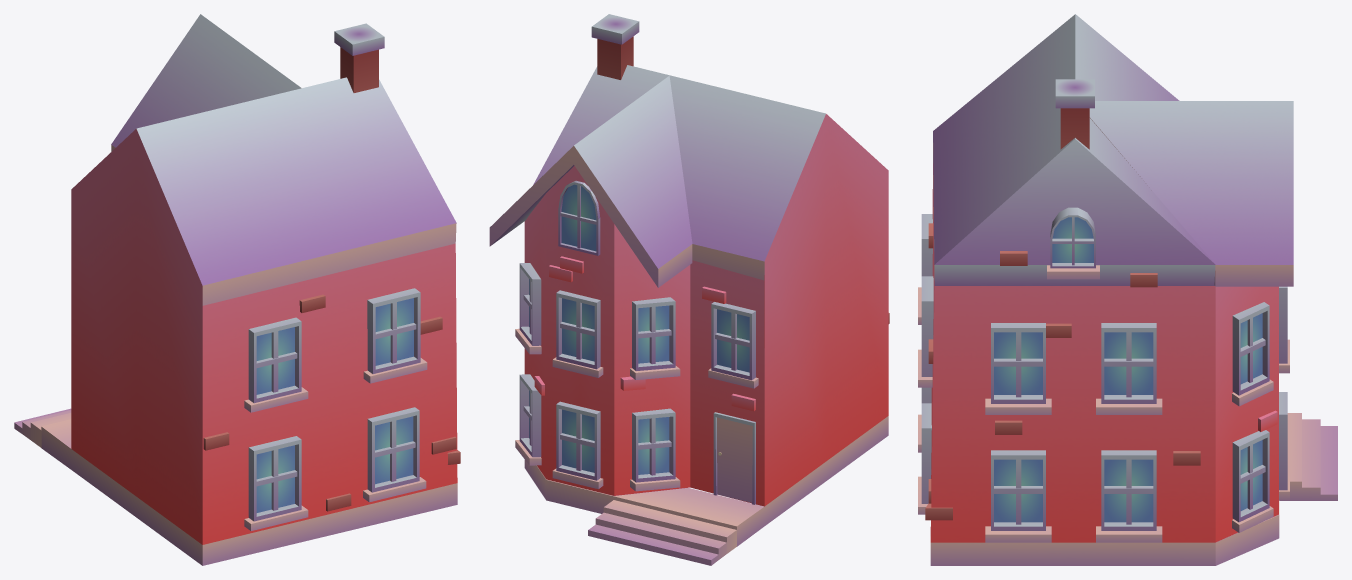
File: SM_House_L_Short_01.fbx
3 renders of one model, left to right at view 1: azimuth 30°, elevation 25°; view 2: azimuth 150°, elevation 25°; view 3: azimuth 270°, elevation 25°, orthographic. The views are drawn at different scales.
Parts seen in each view (by area): view 1: SM_House_L_Short_01; view 2: SM_House_L_Short_01; view 3: SM_House_L_Short_01.
Part boxes in pixels (x1,y1,x2,y2): SM_House_L_Short_01: [14, 14, 460, 565]; SM_House_L_Short_01: [489, 14, 889, 565]; SM_House_L_Short_01: [918, 14, 1337, 565].
Bounding box in the file's own units: 7.23 × 9.03 × 10.97.
